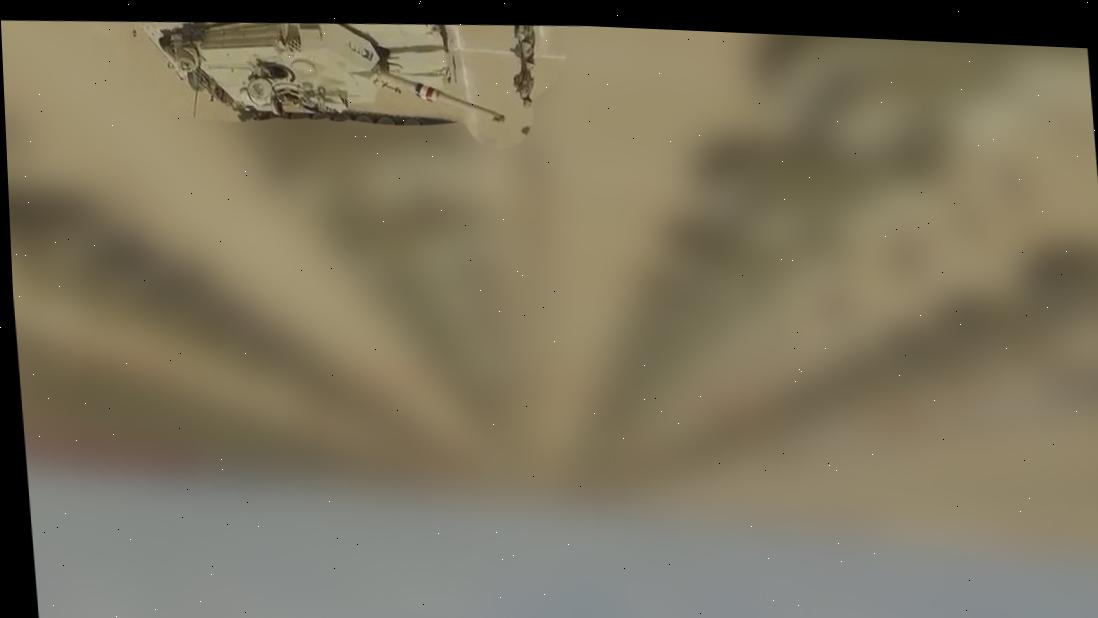tank: (114, 6, 516, 135)
